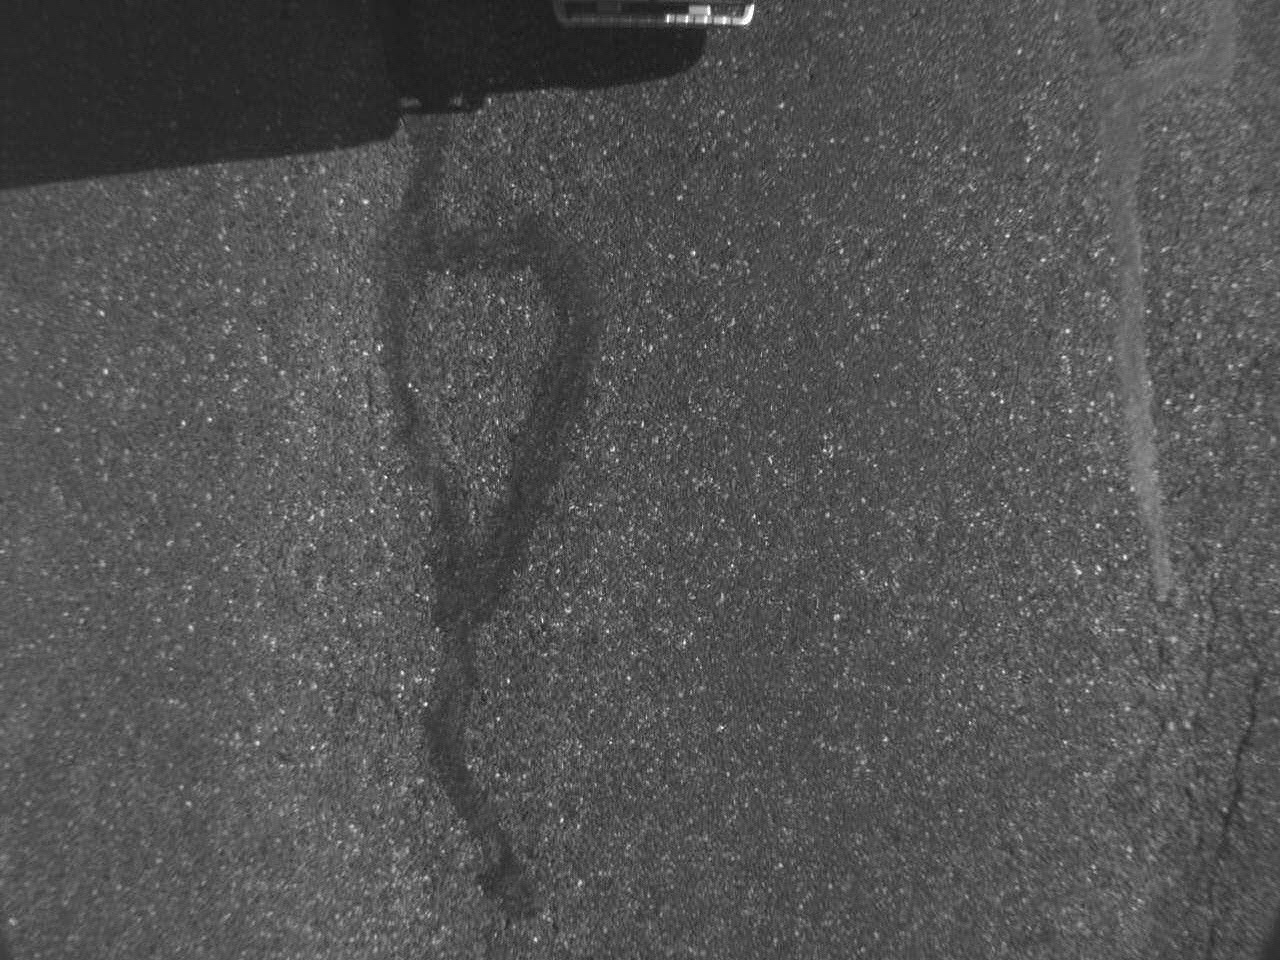sealed: (359, 196, 611, 918), (1074, 18, 1200, 598)
